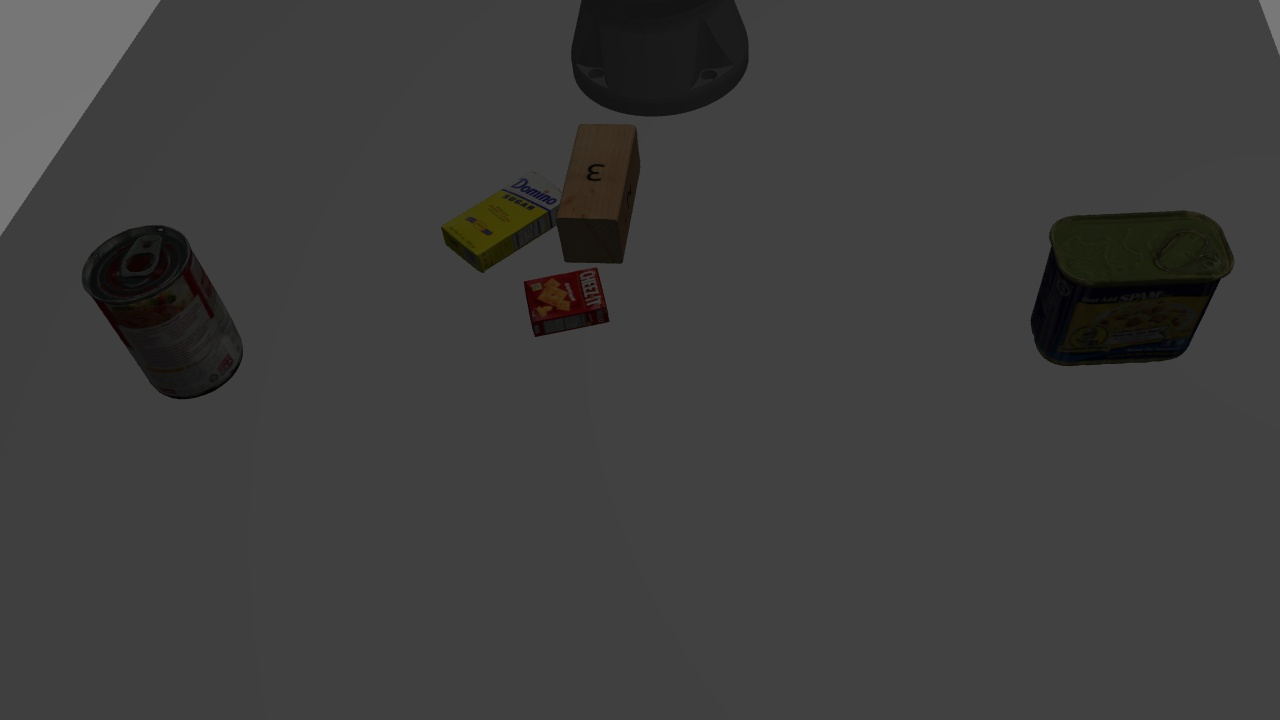cracker_box: (522, 269, 614, 340)
jenga: (438, 165, 564, 271)
potted_meat_can: (1031, 206, 1237, 386)
spoon: (398, 420, 1023, 456)
tomato_soup_can: (83, 223, 251, 401)
wood_block: (555, 122, 647, 265)
